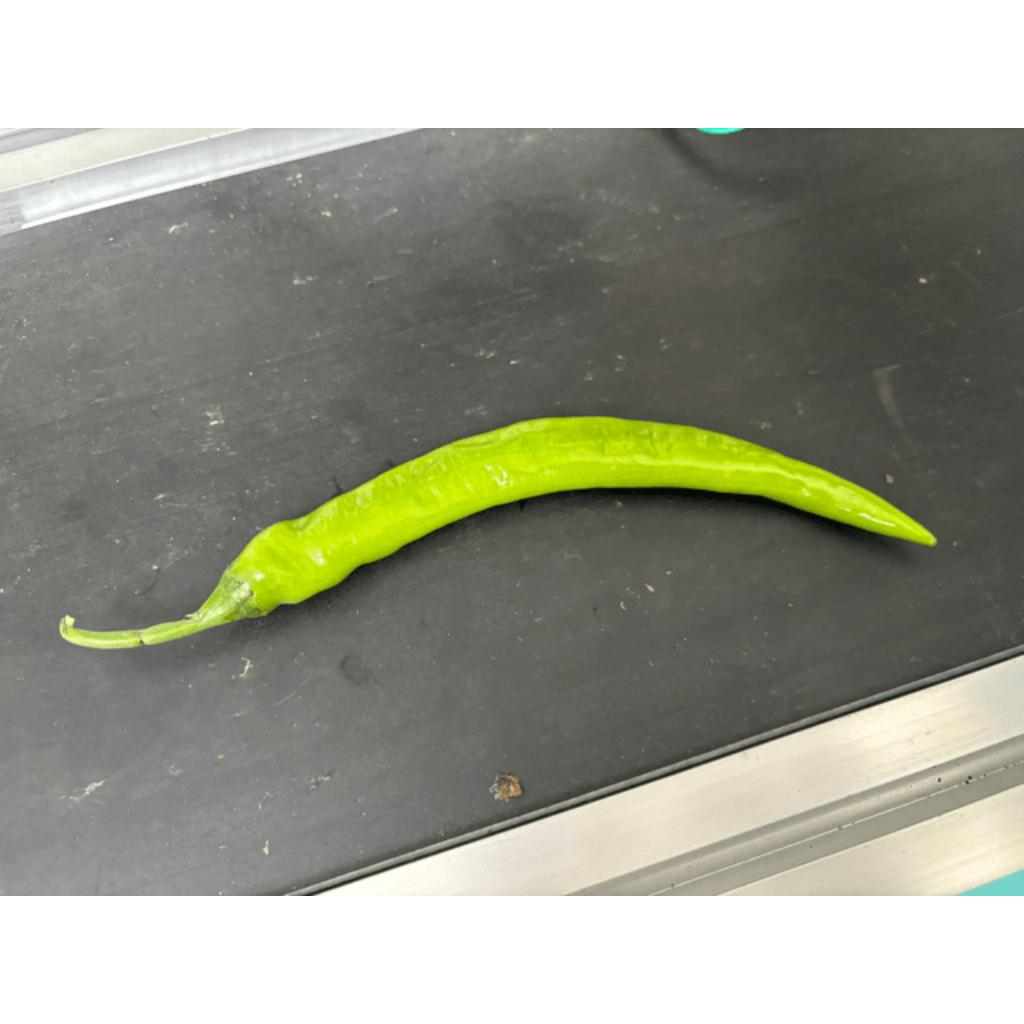chili: (205, 416, 939, 624)
